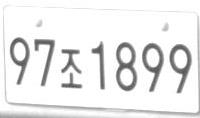1: (88, 40, 111, 89)
7: (33, 38, 55, 86)
8: (114, 41, 138, 91)
9: (168, 44, 192, 93), (141, 42, 164, 92), (9, 36, 31, 85)
조: (60, 48, 82, 88)
